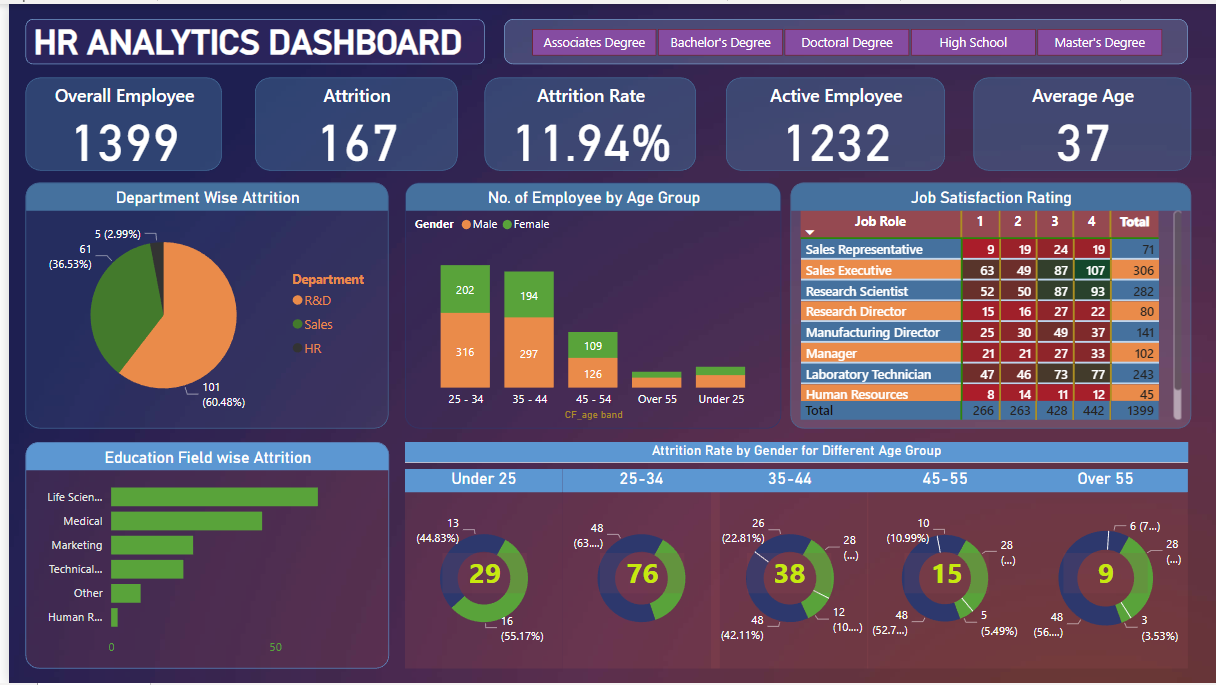

The dashboard page shown, as its layout file describes it:
{"tool":"powerbi","page":{"name":"Page 1","canvas":[1280,720],"ordinal":0},"visuals":[{"type":"card","title":"Overall Employee","fields":{"Values":["Sum(HR data.Employee Count)"]},"box":[17.5,77.9,208.2,98.5],"z":0},{"type":"card","title":"Attrition","fields":{"Values":["Sum(HR data.Attrition Count)"]},"box":[260.7,77.9,214.6,98.5],"z":1000},{"type":"card","title":"Attrition Rate","fields":{"Values":["HR data.Attrition Rate"]},"box":[503.8,77.9,224.1,98.5],"z":2000},{"type":"card","title":"Active Employee","fields":{"Values":["HR data.Active Employee"]},"box":[759.7,77.9,232.1,98.5],"z":3000},{"type":"card","title":"Average Age","fields":{"Values":["Avg(HR data.Age)"]},"box":[1022,77.9,230.5,98.5],"z":4000},{"type":"pieChart","title":"Department Wise Attrition","fields":{"Category":["HR data.Department"],"Y":["Sum(HR data.Attrition Count)"]},"box":[17.5,189.1,384.6,260.7],"z":5000},{"type":"columnChart","title":"No. of Employee by Age Group","fields":{"Category":["HR data.CF_age band"],"Y":["Sum(HR data.Employee Count)"],"Series":["HR data.Gender"]},"box":[419.6,189.1,398.9,260.7],"z":6000},{"type":"pivotTable","title":"Job Satisfaction Rating","fields":{"Rows":["HR data.Job Role"],"Columns":["HR data.Job Satisfaction"],"Values":["Sum(HR data.Employee Count)"]},"box":[828.1,189.1,424.4,260.7],"z":7000},{"type":"barChart","title":"Education Field wise Attrition","fields":{"Category":["HR data.Education Field"],"Y":["Sum(HR data.Attrition Count)"]},"box":[17,464.4,385.1,239.8],"z":8000},{"type":"donutChart","title":"Under 25","fields":{"Category":["HR data.Gender"],"Y":["Sum(HR data.Attrition Count)"],"Series":["HR data.CF_age band"]},"box":[419.6,492.7,166.9,211.4],"z":9000},{"type":"textbox","title":"Attrition Rate by Gender for Different Age Group","box":[419.6,464.1,829.7,22.3],"z":10000},{"type":"donutChart","title":"45-55","fields":{"Category":["HR data.Gender"],"Y":["Sum(HR data.Attrition Count)"],"Series":["HR data.CF_age band"]},"box":[909.1,492.7,165.3,211.4],"z":11000},{"type":"donutChart","title":"35-44","fields":{"Category":["HR data.Gender"],"Y":["Sum(HR data.Attrition Count)"],"Series":["HR data.CF_age band"]},"box":[743.8,492.7,166.9,211.4],"z":12000},{"type":"donutChart","title":"25-34","fields":{"Category":["HR data.Gender"],"Y":["Sum(HR data.Attrition Count)"],"Series":["HR data.CF_age band"]},"box":[586.5,492.7,166.9,211.4],"z":13000},{"type":"donutChart","title":"Over 55","fields":{"Category":["HR data.Gender"],"Y":["Sum(HR data.Attrition Count)"],"Series":["HR data.CF_age band"]},"box":[1074.4,492.7,174.8,211.4],"z":14000},{"type":"card","fields":{"Values":["Sum(HR data.Attrition Count)"]},"box":[459.3,581.7,89,42.9],"z":14001},{"type":"card","fields":{"Values":["Sum(HR data.Attrition Count)"]},"box":[626.2,581.7,89,42.9],"z":14002},{"type":"card","fields":{"Values":["Sum(HR data.Attrition Count)"]},"box":[1117.4,581.7,89,42.9],"z":14003},{"type":"card","fields":{"Values":["Sum(HR data.Attrition Count)"]},"box":[948.9,581.7,89,42.9],"z":14004},{"type":"card","fields":{"Values":["Sum(HR data.Attrition Count)"]},"box":[782,581.7,89,42.9],"z":14005},{"type":"textbox","title":"HR ANALYTICS DASHBOARD","box":[17.5,15.9,486.4,47.7],"z":14006},{"type":"slicer","fields":{"Values":["HR data.Education"]},"box":[524.5,15.9,724.8,47.7],"z":14007}]}

Visuals, with their boxes in screenshot pixels (x1, y1, x2, y2), scaled from the page's 1280x720 canvas onto the 1216x685 screenshot:
"Overall Employee" card: (x1=17, y1=74, x2=214, y2=168)
"Attrition" card: (x1=248, y1=74, x2=452, y2=168)
"Attrition Rate" card: (x1=479, y1=74, x2=692, y2=168)
"Active Employee" card: (x1=722, y1=74, x2=942, y2=168)
"Average Age" card: (x1=971, y1=74, x2=1190, y2=168)
"Department Wise Attrition" pieChart: (x1=17, y1=180, x2=382, y2=428)
"No. of Employee by Age Group" columnChart: (x1=399, y1=180, x2=778, y2=428)
"Job Satisfaction Rating" pivotTable: (x1=787, y1=180, x2=1190, y2=428)
"Education Field wise Attrition" barChart: (x1=16, y1=442, x2=382, y2=670)
"Under 25" donutChart: (x1=399, y1=469, x2=557, y2=670)
"Attrition Rate by Gender for Different Age Group" textbox: (x1=399, y1=442, x2=1187, y2=463)
"45-55" donutChart: (x1=864, y1=469, x2=1021, y2=670)
"35-44" donutChart: (x1=707, y1=469, x2=865, y2=670)
"25-34" donutChart: (x1=557, y1=469, x2=716, y2=670)
"Over 55" donutChart: (x1=1021, y1=469, x2=1187, y2=670)
card - Sum(HR data.Attrition Count): (x1=436, y1=553, x2=521, y2=594)
card - Sum(HR data.Attrition Count): (x1=595, y1=553, x2=679, y2=594)
card - Sum(HR data.Attrition Count): (x1=1062, y1=553, x2=1146, y2=594)
card - Sum(HR data.Attrition Count): (x1=901, y1=553, x2=986, y2=594)
card - Sum(HR data.Attrition Count): (x1=743, y1=553, x2=827, y2=594)
"HR ANALYTICS DASHBOARD" textbox: (x1=17, y1=15, x2=479, y2=61)
slicer - HR data.Education: (x1=498, y1=15, x2=1187, y2=61)
